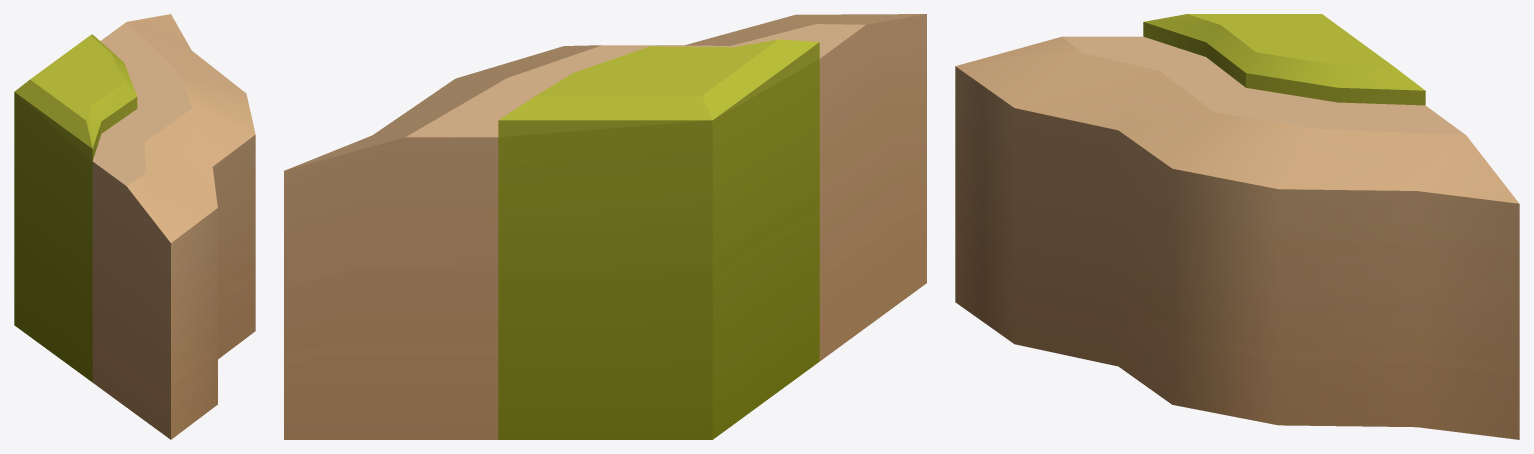
The model's file is kaykit-medieval-hexagon-pack-hex-coast-d-waterless.glb.
3 renders of one model, left to right at view 1: azimuth 30°, elevation 25°; view 2: azimuth 150°, elevation 25°; view 3: azimuth 270°, elevation 25°, orthographic. The views are drawn at different scales.
Visible parts, largest first — view 1: hex_coast_D_waterless; view 2: hex_coast_D_waterless; view 3: hex_coast_D_waterless.
Part boxes in pixels (x1=…): hex_coast_D_waterless: x1=14, y1=14, x2=255, y2=439; hex_coast_D_waterless: x1=284, y1=14, x2=926, y2=439; hex_coast_D_waterless: x1=955, y1=14, x2=1519, y2=439.
Bounding box in the file's own units: 1 × 1 × 1.73.
Materials: 1 (1 with a texture image).
